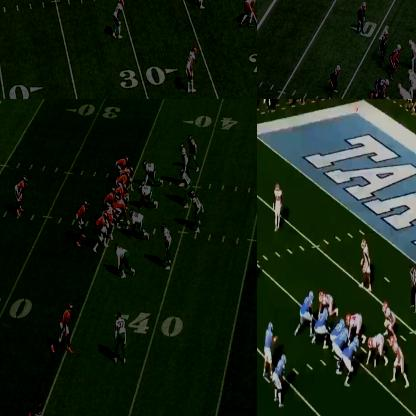CENTER: (332, 318, 348, 342), (116, 197, 126, 226)
DB: (116, 313, 127, 363), (274, 182, 284, 232), (188, 46, 198, 91), (188, 132, 199, 170), (113, 0, 123, 38), (379, 24, 389, 59), (179, 146, 191, 174), (357, 2, 366, 31)
LB: (390, 334, 405, 382), (360, 238, 372, 291), (76, 201, 88, 247), (190, 192, 202, 232), (181, 169, 192, 207), (390, 45, 402, 76), (330, 64, 341, 97), (385, 299, 396, 331), (164, 225, 172, 268), (196, 0, 207, 9)
QB: (262, 322, 272, 374), (105, 187, 116, 209)
SKILL: (274, 354, 289, 402), (58, 302, 73, 346), (16, 177, 28, 203), (115, 154, 129, 171), (127, 165, 135, 194), (409, 39, 415, 71)
